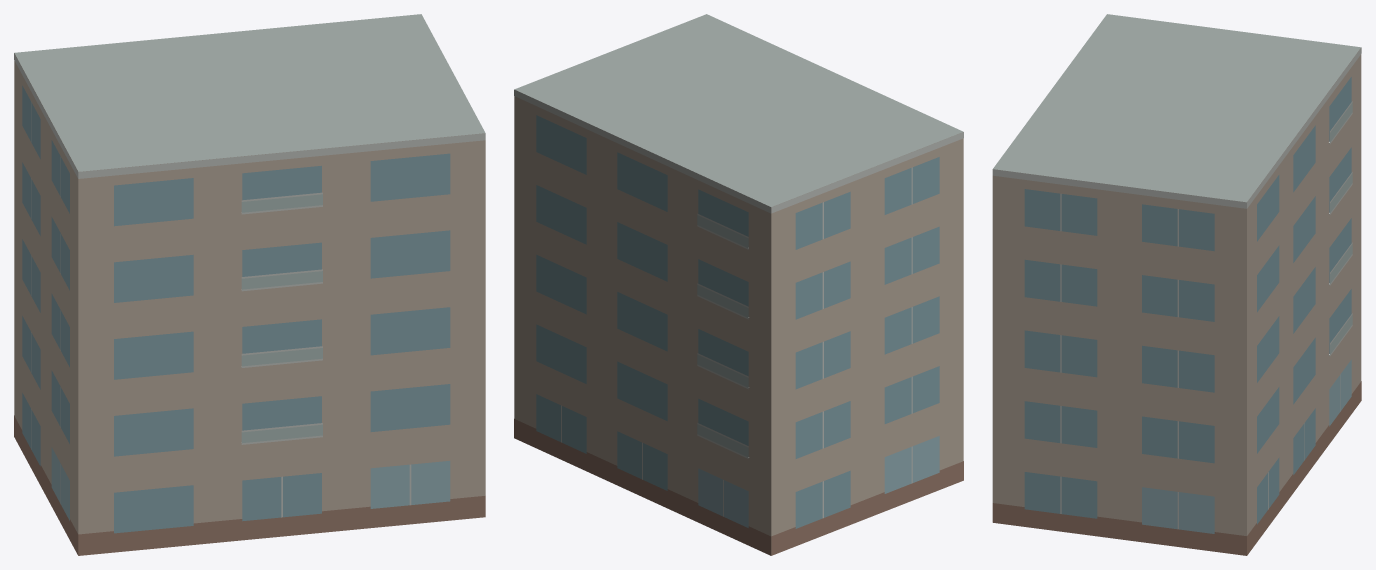
The model's file is survey-upis-32991069.glb.
The picture shows the model from 3 angles, left to right: view 1: azimuth 30°, elevation 25°; view 2: azimuth 150°, elevation 25°; view 3: azimuth 270°, elevation 25°; orthographic projection. The views are drawn at different scales.
Parts seen in each view (by area): view 1: survey-upis-32991069.tmp; view 2: survey-upis-32991069.tmp; view 3: survey-upis-32991069.tmp.
Boxes of the visible parts, x1=… form: survey-upis-32991069.tmp: x1=14, y1=14, x2=485, y2=555; survey-upis-32991069.tmp: x1=514, y1=14, x2=963, y2=555; survey-upis-32991069.tmp: x1=992, y1=14, x2=1361, y2=555.
Bounding box in the file's own units: 15.03 × 13.15 × 12.44.
